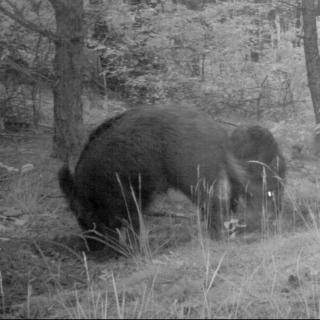Pig: (50, 97, 244, 279)
